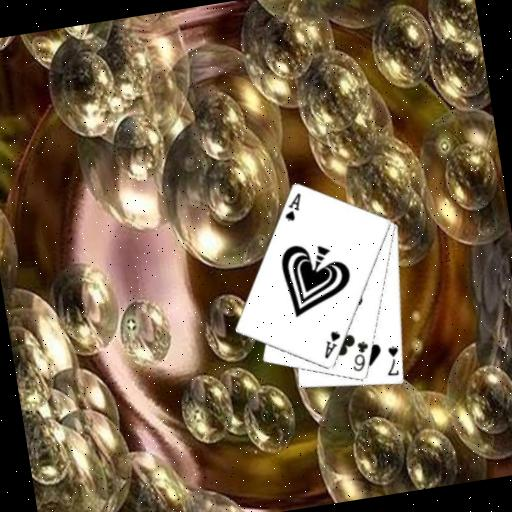6C: (346, 337, 374, 374)
7S: (380, 342, 404, 378)
AS: (278, 189, 306, 224), (317, 327, 345, 361)
